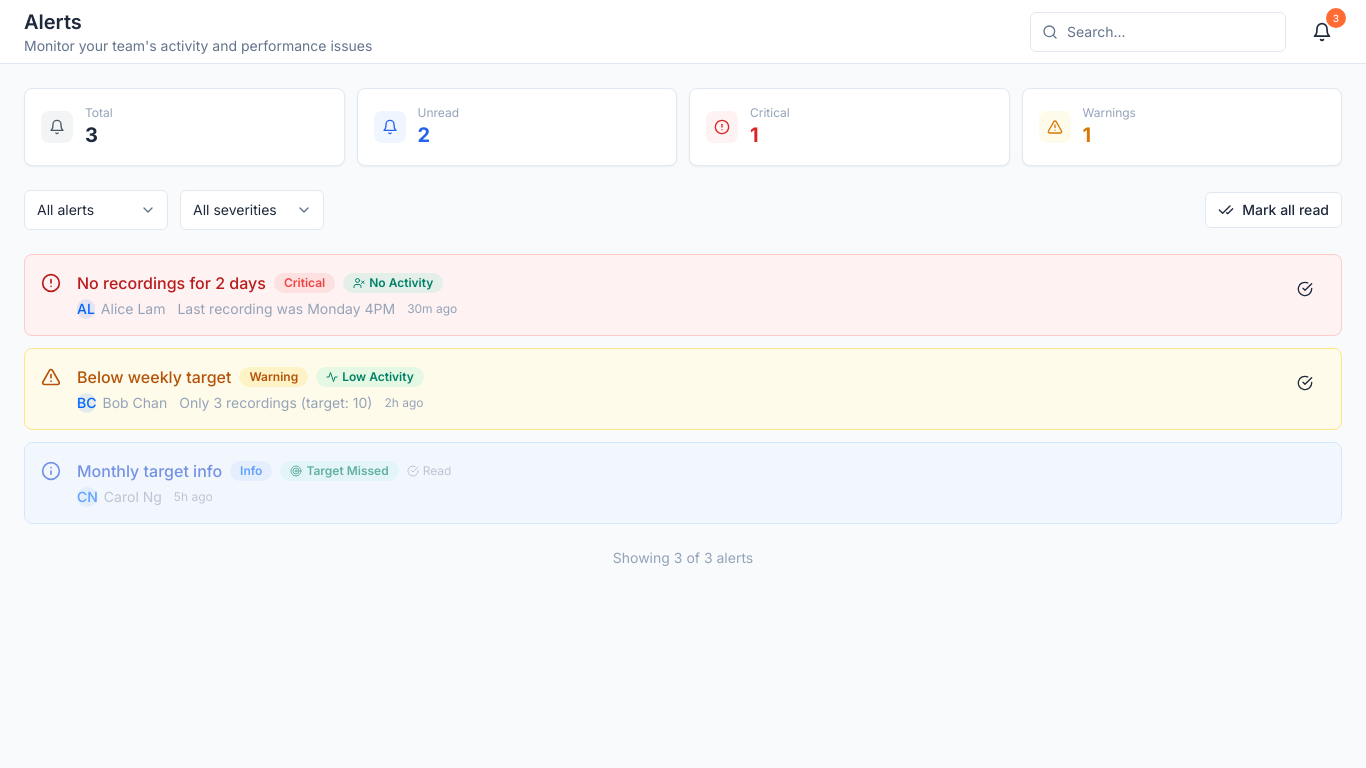
AlertsPage › filtering › filters to warning only
Select "Warnings only" in the dropdown with test id "severity-filter" at (252, 210), box [180,190,324,230]
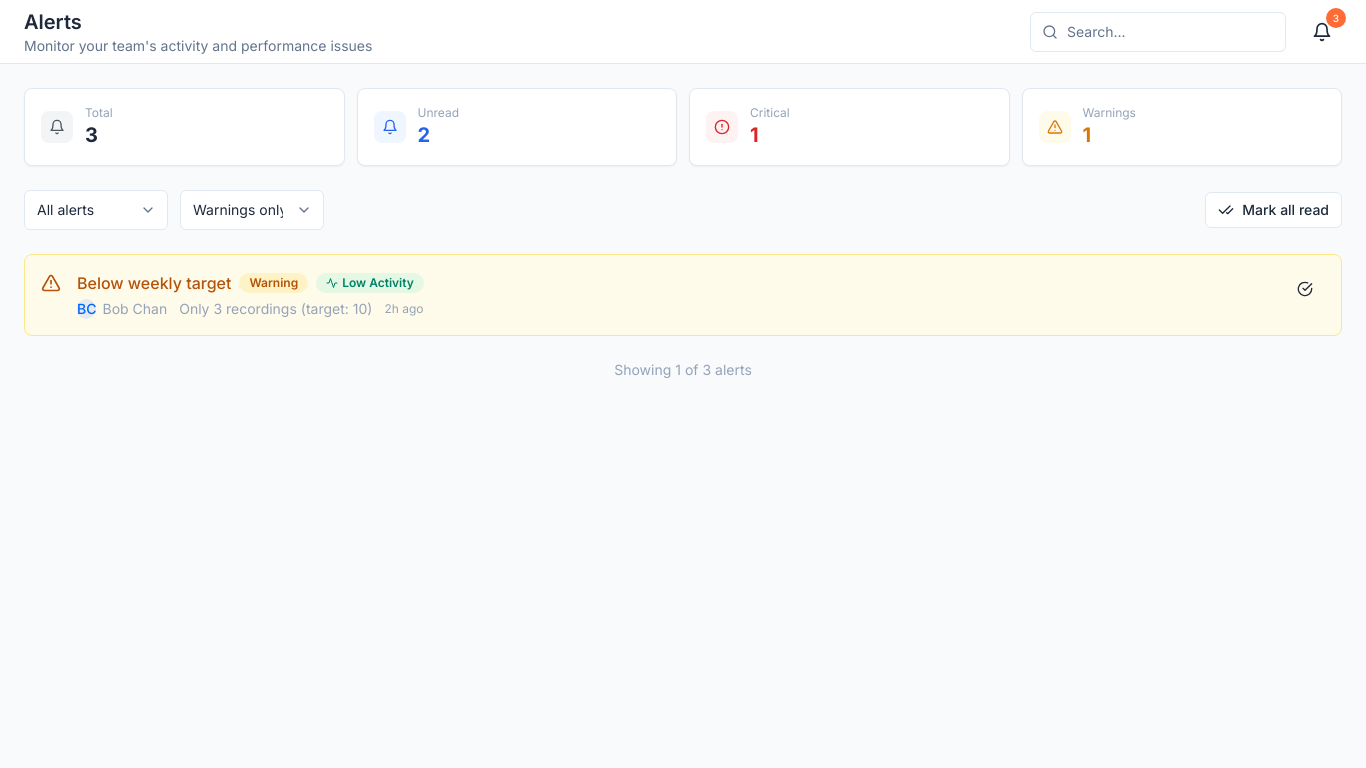
Check: the number of elements with test id "alert-card" is 1, box [24,254,1342,336]
